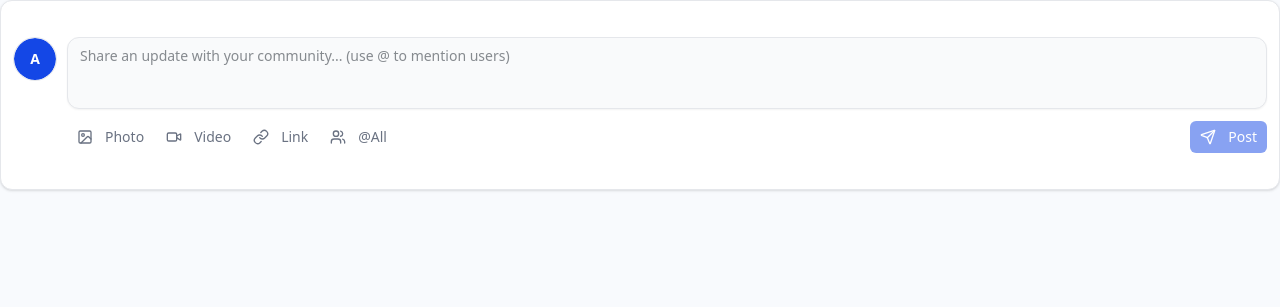
it: PostComposer › Link toggle › shows the link URL input when Link is clicked
The image size is (1280, 307).
Step 1. Click the button "Link" → (281, 137), box top-left (243, 121), bottom-right (318, 153)
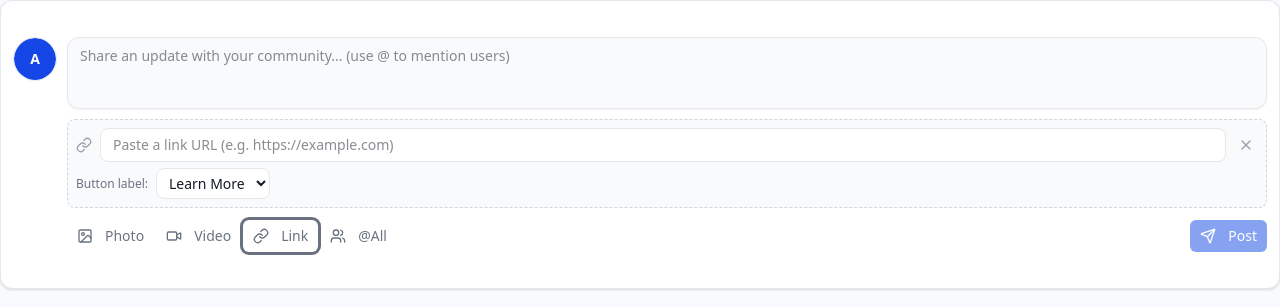
expect the field with placeholder "Paste a link URL (e.g. https://example.com)" is shown: met, box top-left (100, 128), bottom-right (1226, 162)
